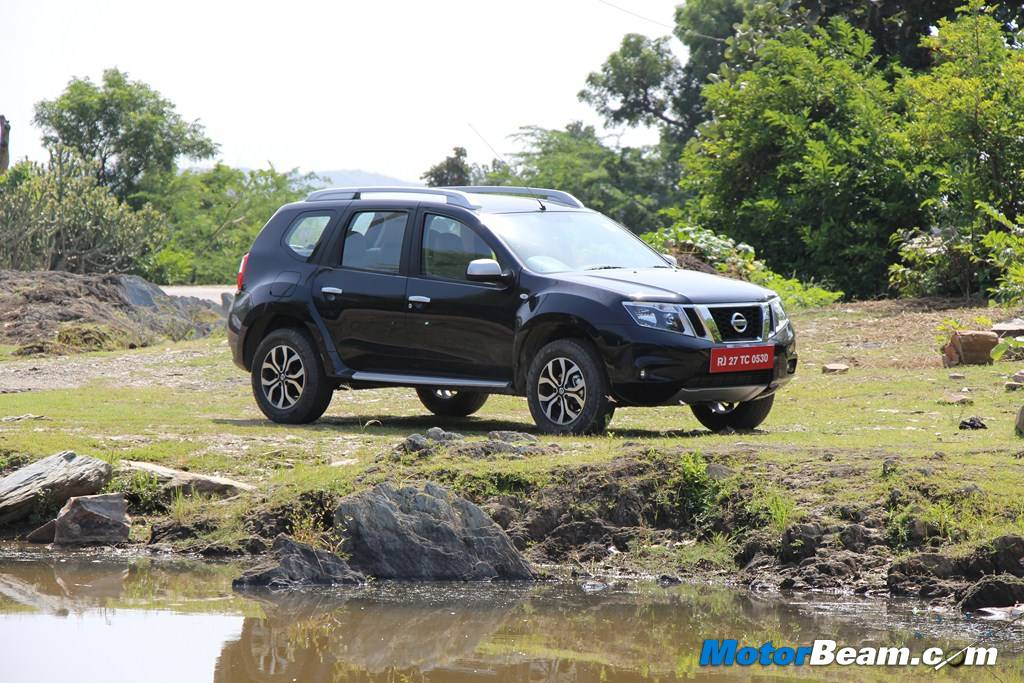number_plate: (707, 343, 785, 379)
